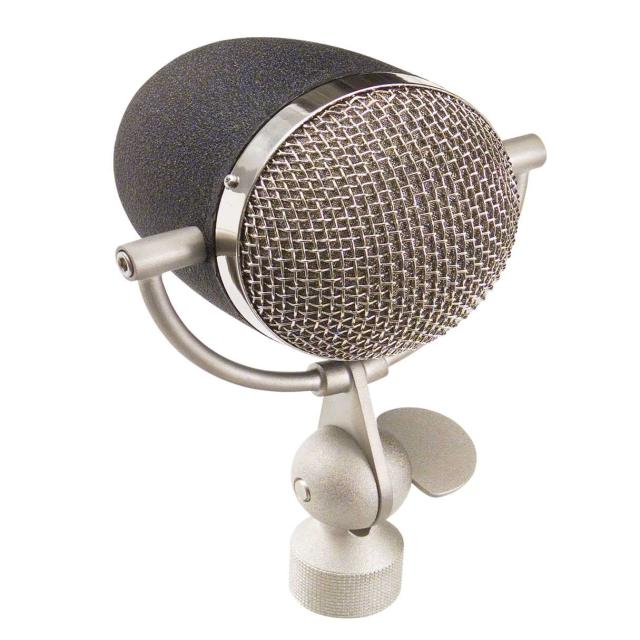microphone: (112, 43, 543, 615)
